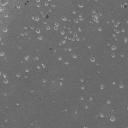corrosion: (89, 55, 96, 63), (110, 45, 117, 52), (109, 115, 116, 122), (61, 16, 68, 23), (121, 3, 128, 10), (54, 23, 60, 31), (35, 28, 42, 34), (32, 16, 39, 22), (71, 53, 78, 59), (2, 78, 9, 84), (37, 35, 43, 41), (91, 9, 97, 15), (61, 39, 67, 45), (15, 73, 21, 79), (77, 3, 84, 8), (100, 83, 105, 90), (3, 27, 8, 33), (74, 19, 79, 25), (57, 56, 63, 61), (45, 26, 51, 31), (4, 13, 10, 18), (60, 31, 66, 36), (106, 99, 111, 105), (16, 4, 21, 10), (97, 26, 102, 31), (79, 78, 84, 83), (36, 65, 41, 70), (115, 29, 120, 34), (36, 4, 41, 9), (24, 69, 29, 73), (44, 2, 48, 7), (73, 33, 78, 37), (24, 56, 29, 60), (80, 87, 85, 91), (120, 53, 124, 58), (72, 10, 76, 14)
